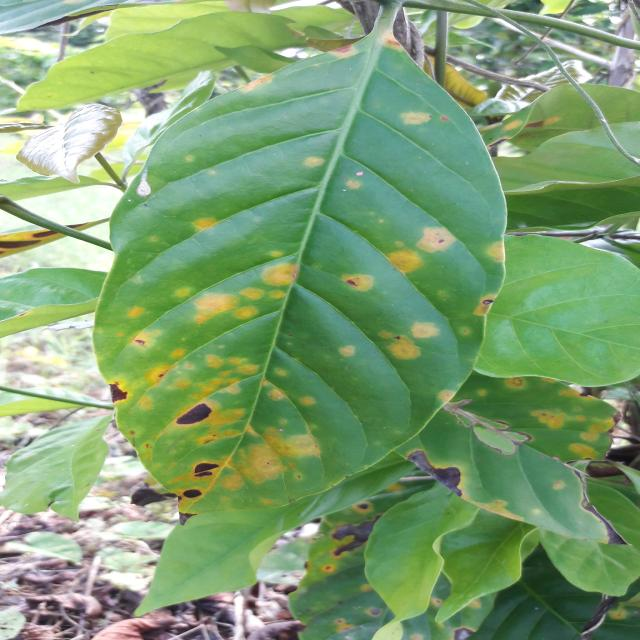Enfermedad-Roya: (94, 39, 501, 530)
